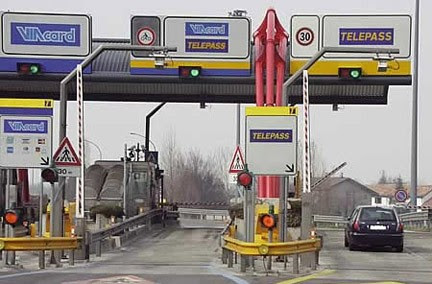car: (338, 204, 412, 258)
